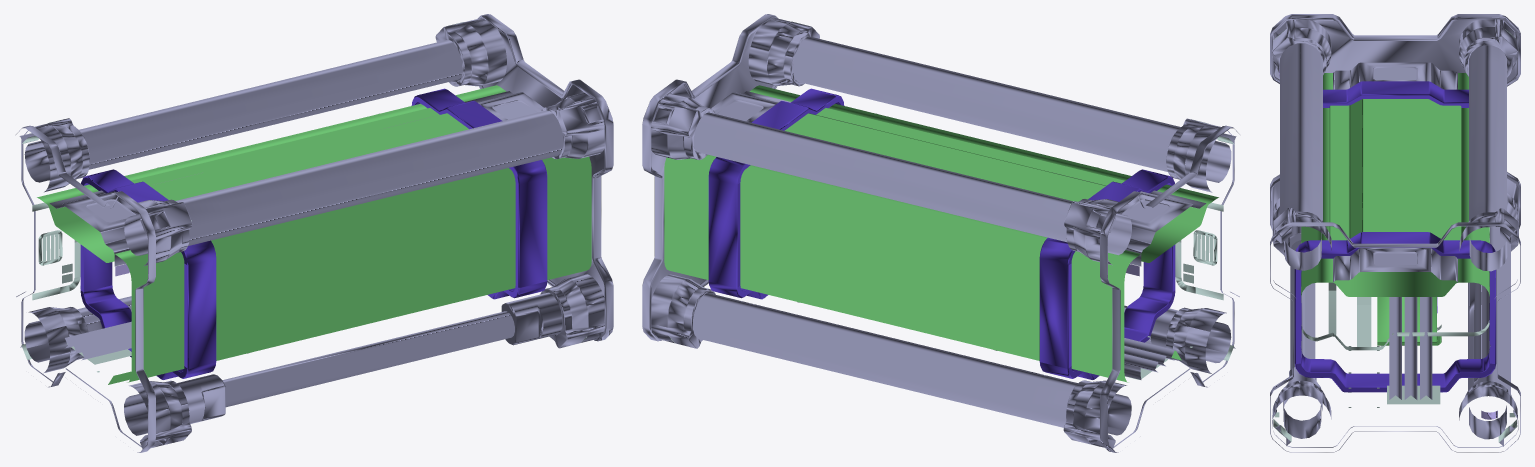
File: pipe_setd_straight_fps_08x04x04_a.glb
3 views of the same model, side by side, from view 1: azimuth 30°, elevation 25°; view 2: azimuth 150°, elevation 25°; view 3: azimuth 270°, elevation 25° (orthographic). The views are drawn at different scales.
Size of the model in its own units: 8 by 4 by 4.
